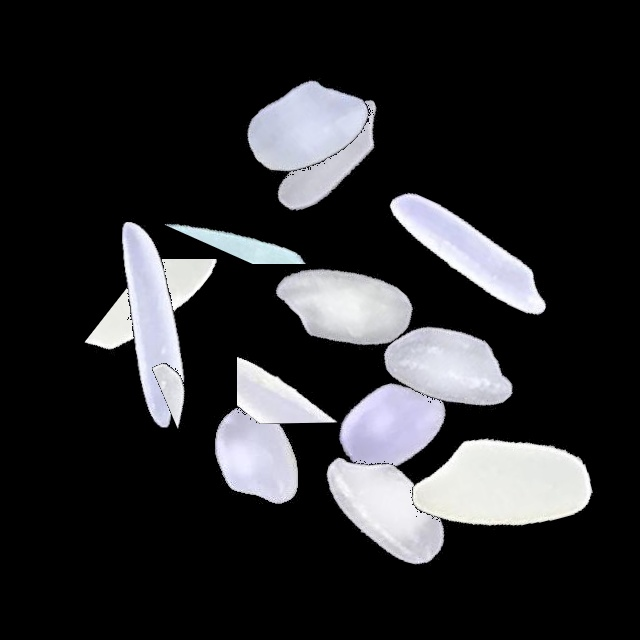Broken: (237, 232, 367, 482), (54, 259, 304, 382), (139, 152, 389, 264), (94, 351, 344, 450), (100, 127, 177, 377)
Full: (203, 33, 453, 283), (220, 180, 470, 430), (28, 201, 278, 451), (130, 325, 380, 575), (342, 128, 592, 378), (181, 2, 431, 252), (269, 301, 519, 551), (258, 383, 508, 633), (322, 246, 572, 496), (373, 357, 623, 607)
